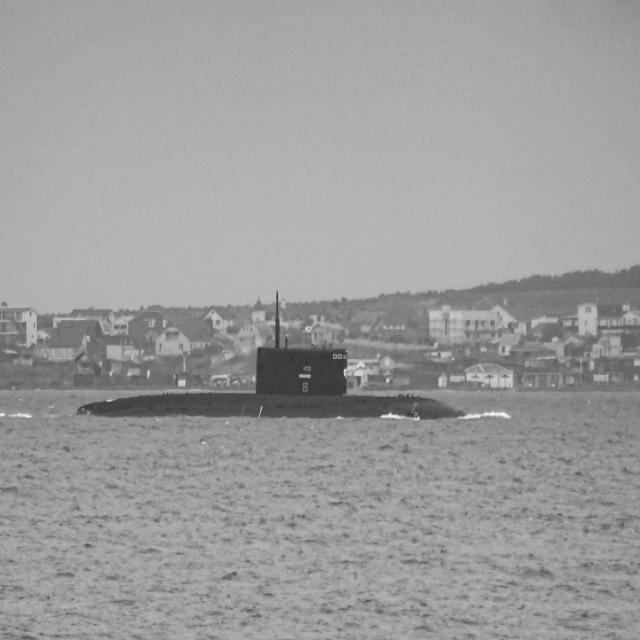submarine: (66, 338, 481, 423)
